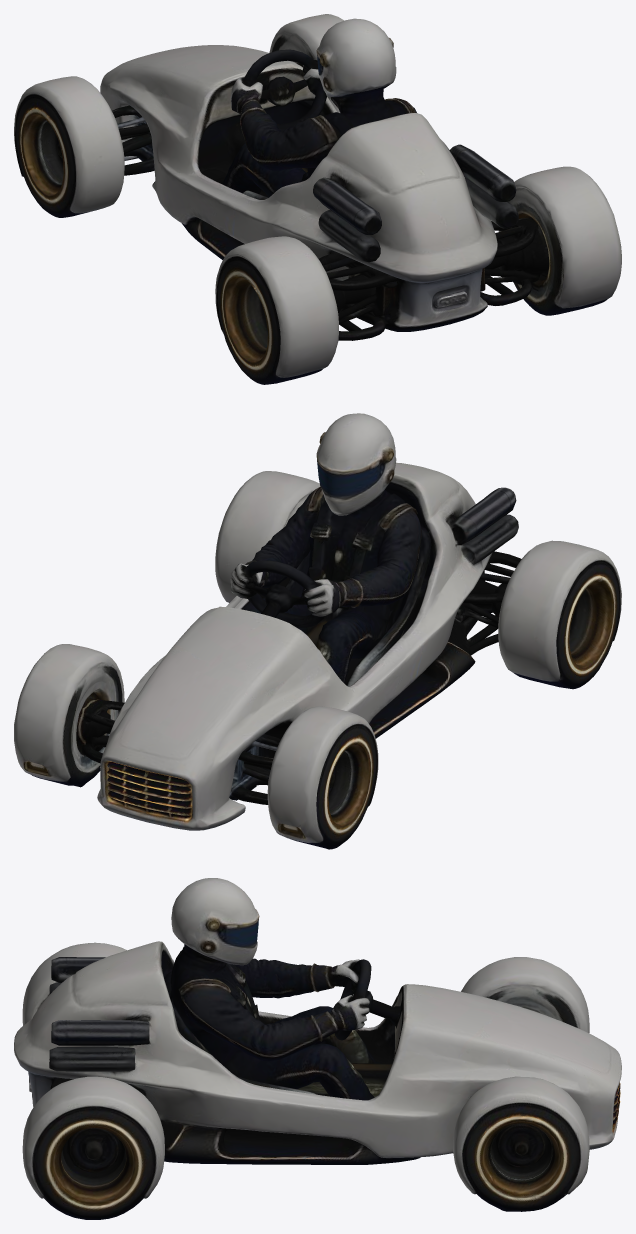
File: collective-final.glb
3 views of the same model, one above another, from view 1: azimuth 30°, elevation 25°; view 2: azimuth 150°, elevation 25°; view 3: azimuth 270°, elevation 25° (orthographic). The views are drawn at different scales.
Visible parts, largest first — view 1: chassis, wheel-rl, wheel-fl, wheel-rr, wheel-fr; view 2: chassis, wheel-rl, wheel-fl, wheel-fr, wheel-rr; view 3: chassis, wheel-rr, wheel-fr, wheel-fl, wheel-rl.
Boxes of the visible parts, left/top/right/bottom form: chassis: left=100, top=18, right=536, bottom=340; wheel-rl: left=215, top=236, right=338, bottom=384; wheel-fl: left=14, top=76, right=124, bottom=217; wheel-rr: left=498, top=166, right=621, bottom=315; wheel-fr: left=269, top=14, right=343, bottom=112; chassis: left=86, top=413, right=521, bottom=830; wheel-rl: left=498, top=540, right=621, bottom=689; wheel-fl: left=267, top=706, right=378, bottom=849; wheel-fr: left=14, top=644, right=124, bottom=787; wheel-rr: left=215, top=471, right=320, bottom=602; chassis: left=14, top=878, right=621, bottom=1164; wheel-rr: left=22, top=1076, right=164, bottom=1219; wheel-fr: left=453, top=1076, right=589, bottom=1211; wheel-fl: left=461, top=957, right=589, bottom=1032; wheel-rl: left=22, top=942, right=126, bottom=1025.
Size of the model in its own units: 2.84 by 2.14 by 4.5.
Materials: 1 (1 with a texture image).
